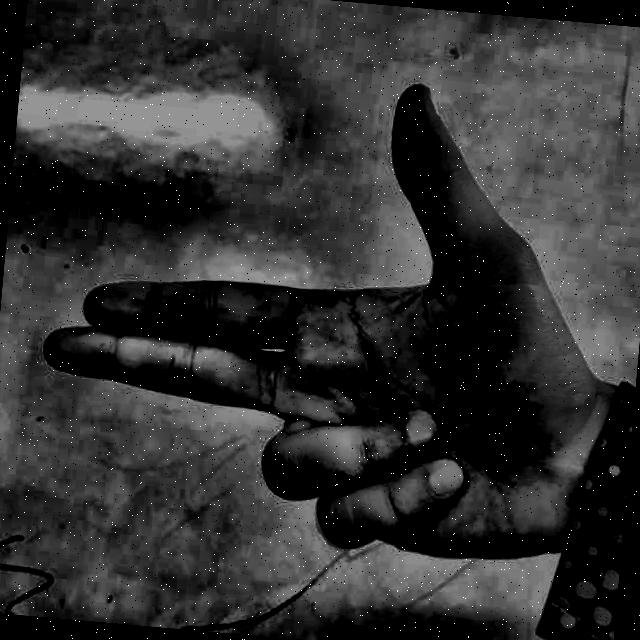Jha: (10, 16, 632, 632)
